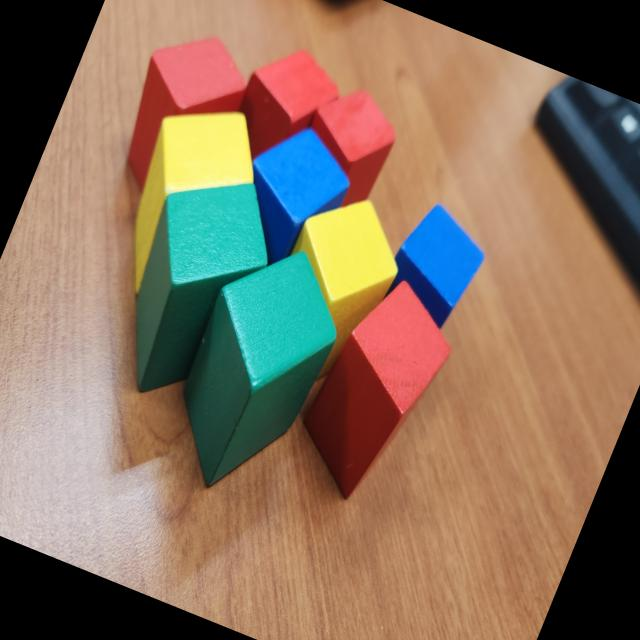blue: (216, 110, 366, 286), (374, 194, 496, 336)
green: (148, 225, 362, 510), (93, 156, 295, 420)
red: (277, 262, 472, 518), (102, 14, 266, 214), (220, 34, 350, 179), (284, 76, 409, 220)
yellow: (96, 85, 276, 321), (262, 181, 418, 368)
